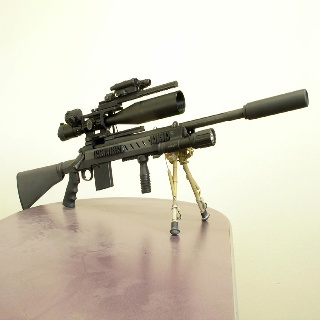rifle: (14, 75, 309, 209)
